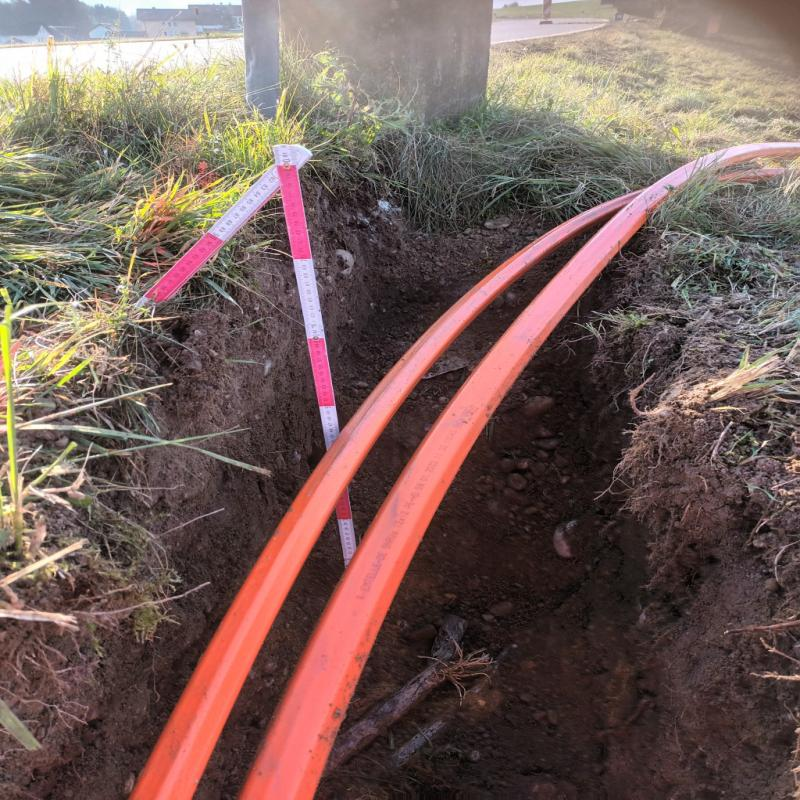Orang-Speednetrohrchen: (123, 179, 669, 800)
